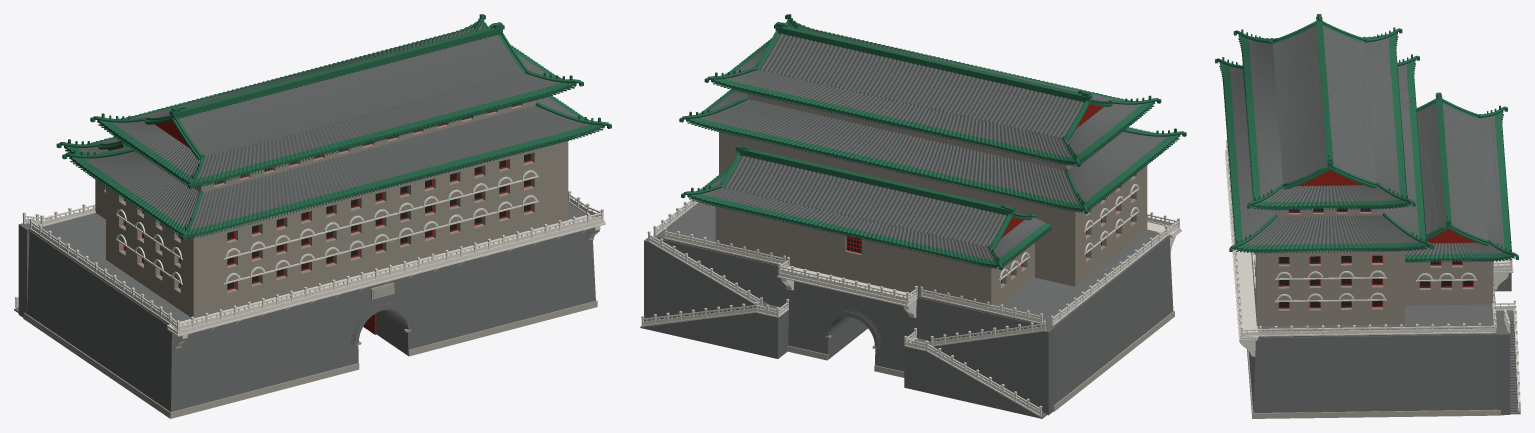
Rendered from zhengyangmen-arrow-tower.glb.
3 views of the same model, side by side, from view 1: azimuth 30°, elevation 25°; view 2: azimuth 150°, elevation 25°; view 3: azimuth 270°, elevation 25° (orthographic). The views are drawn at different scales.
Parts seen in each view (by area): view 1: zhengyangmen-arrow-tower; view 2: zhengyangmen-arrow-tower; view 3: zhengyangmen-arrow-tower.
Part boxes in pixels (x1=…): zhengyangmen-arrow-tower: x1=14, y1=14, x2=611, y2=418; zhengyangmen-arrow-tower: x1=640, y1=14, x2=1186, y2=418; zhengyangmen-arrow-tower: x1=1215, y1=14, x2=1520, y2=418.
Bounding box in the file's own units: 61.7 × 35.32 × 41.24.
